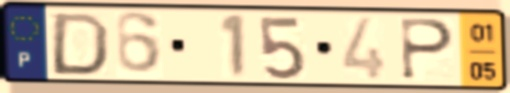1: (217, 12, 248, 82)
4: (338, 15, 389, 83)
5: (257, 13, 311, 81)
6: (114, 8, 164, 81)
D: (47, 10, 113, 78)
P: (398, 16, 457, 83)
